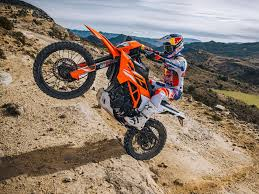motorcycle: (31, 24, 189, 162)
